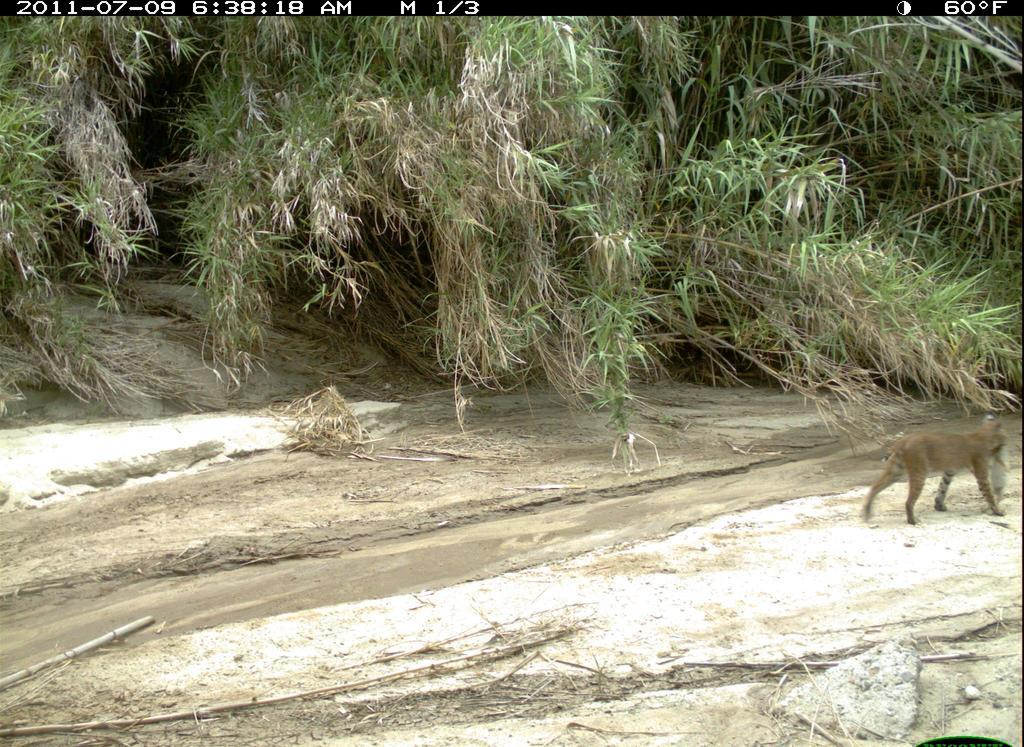bobcat: (861, 414, 1010, 527)
